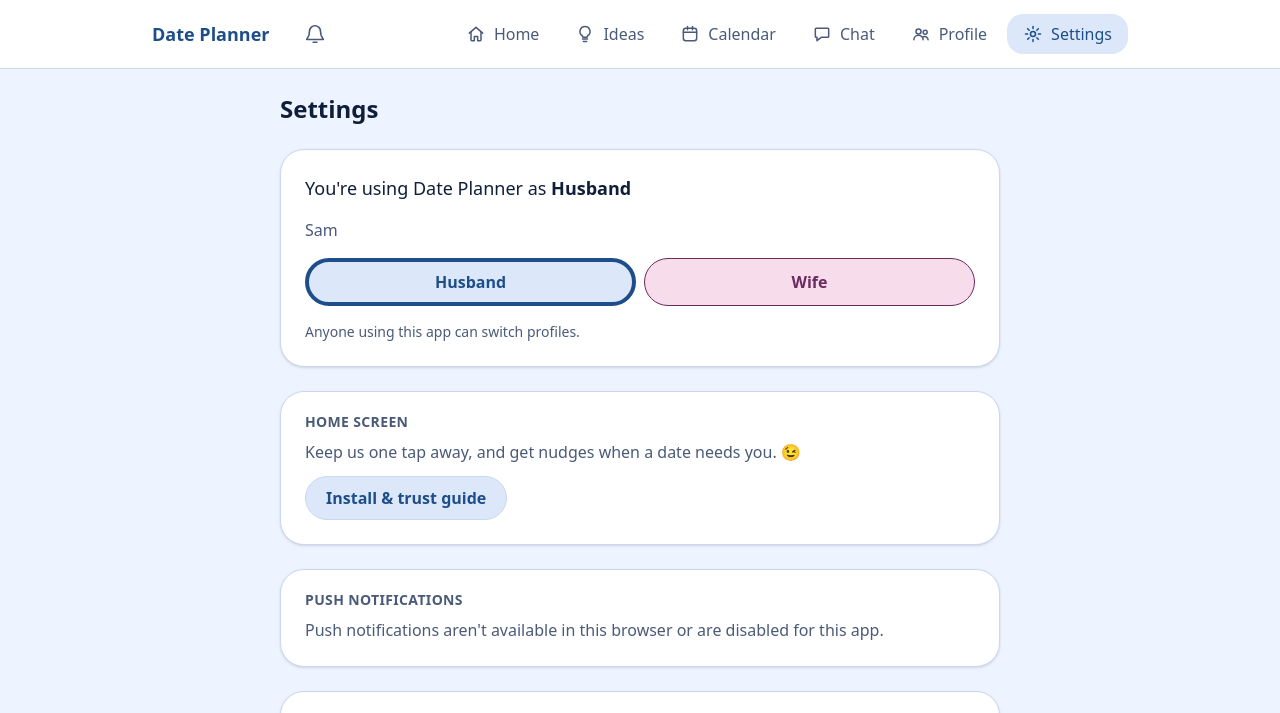
ProfilePage › shows an inline alert when switching fails
Step 1. Click the button "Wife" → (810, 282), box x1=644 y1=258 x2=975 y2=306
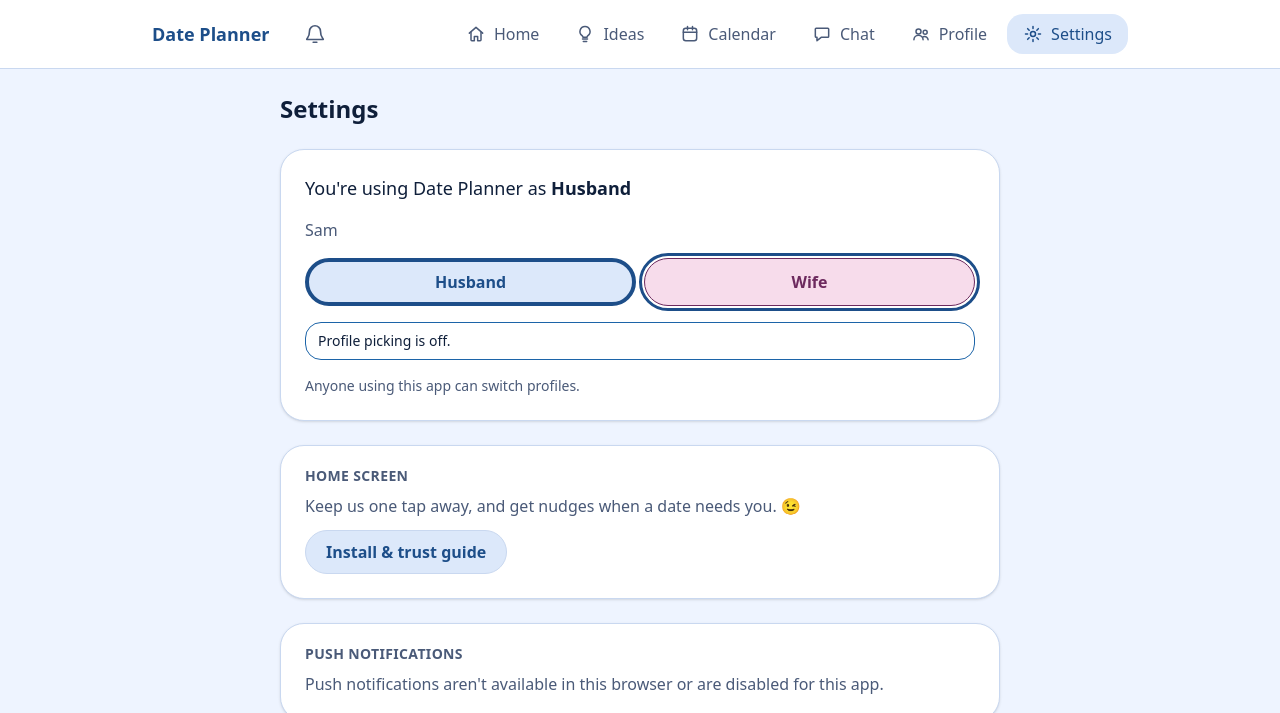
Result: the message reads "Profile picking is off." at x1=318 y1=331 x2=450 y2=350
